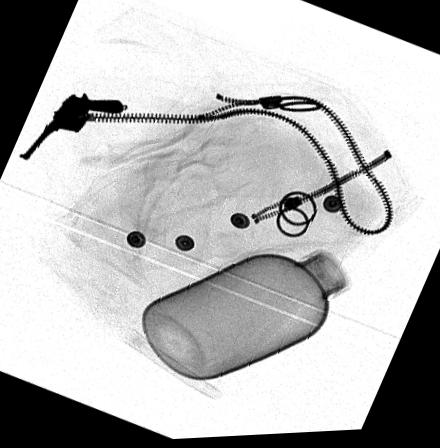Gun: (20, 92, 124, 163)
